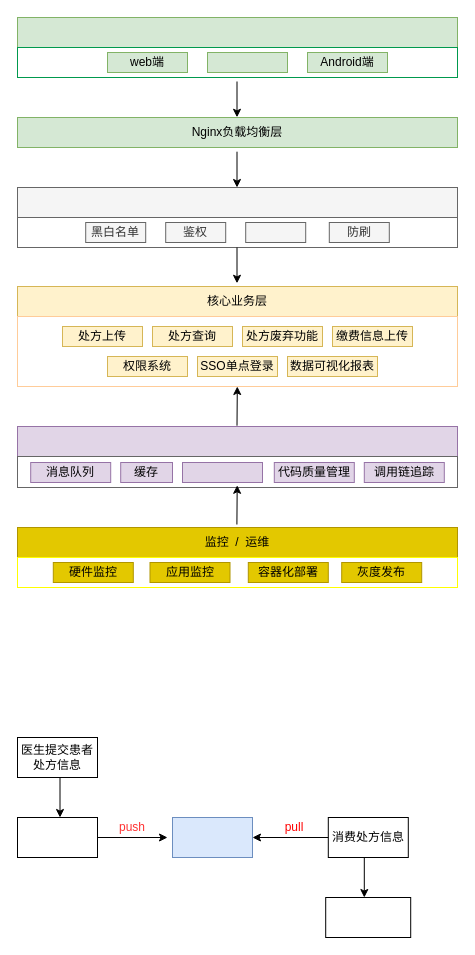
Image size: 475x955. Some labels were removed from this diagram. Each missing label, with the centre of its shape:
"ios端" goes at point (247, 62).
"kafka集群" goes at point (212, 837).
"业务网关层" goes at point (237, 202).
"基础支撑层(中间件，可复用)" goes at point (237, 441).
"大前端(医院，药店，慢特病服务站)" goes at point (237, 32).
"存储层" goes at point (368, 917).
"定时任务" goes at point (222, 472).
"请求到达核心业务层" goes at point (57, 837).
"请求校验" goes at point (275, 232).
